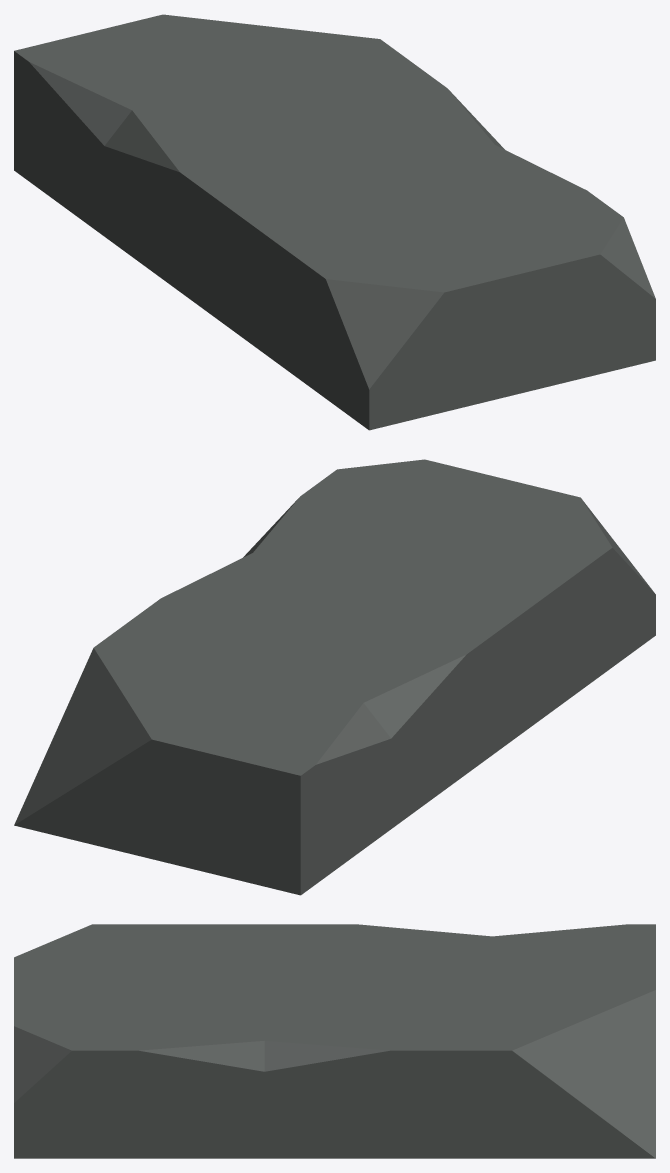
File: SM_Env_Brick_04.fbx
3 views of the same model, one above another, from view 1: azimuth 30°, elevation 25°; view 2: azimuth 150°, elevation 25°; view 3: azimuth 270°, elevation 25° (orthographic). The views are drawn at different scales.
Parts seen in each view (by area): view 1: SM_Env_Brick_04; view 2: SM_Env_Brick_04; view 3: SM_Env_Brick_04.
Part boxes in pixels (box(x1,y1,x2,y2)): SM_Env_Brick_04: box(14, 14, 655, 430); SM_Env_Brick_04: box(14, 459, 655, 895); SM_Env_Brick_04: box(14, 924, 655, 1158).
Size of the model in its own units: 38.94 by 15.53 by 83.55.
1 material, 1 textured.
